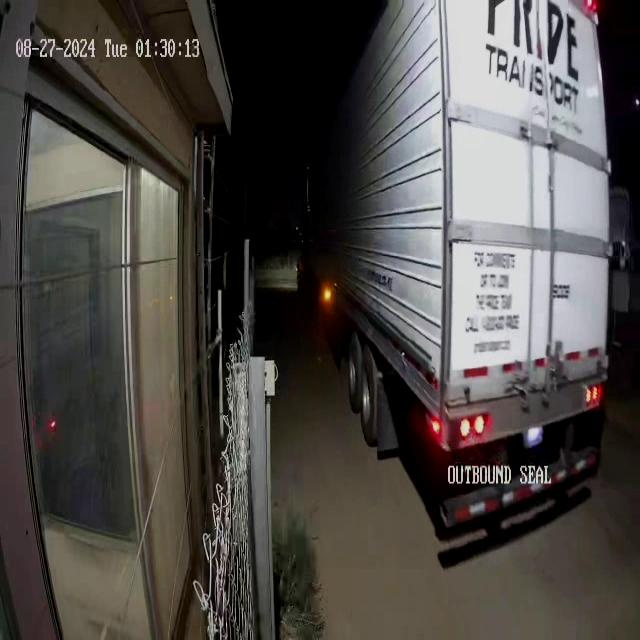CONTAINER: (313, 0, 603, 400)
